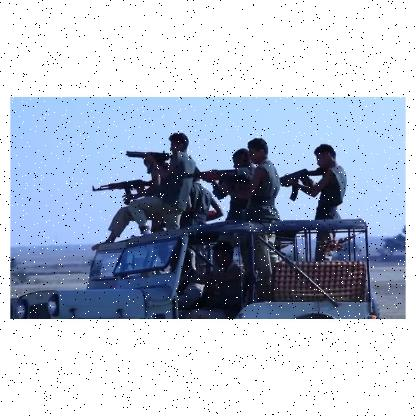gun: (177, 168, 245, 199), (92, 176, 156, 206), (274, 167, 324, 199), (120, 150, 172, 176)
